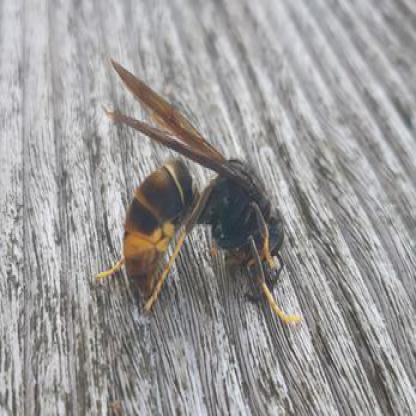Asian Hornet: (91, 57, 307, 332)
